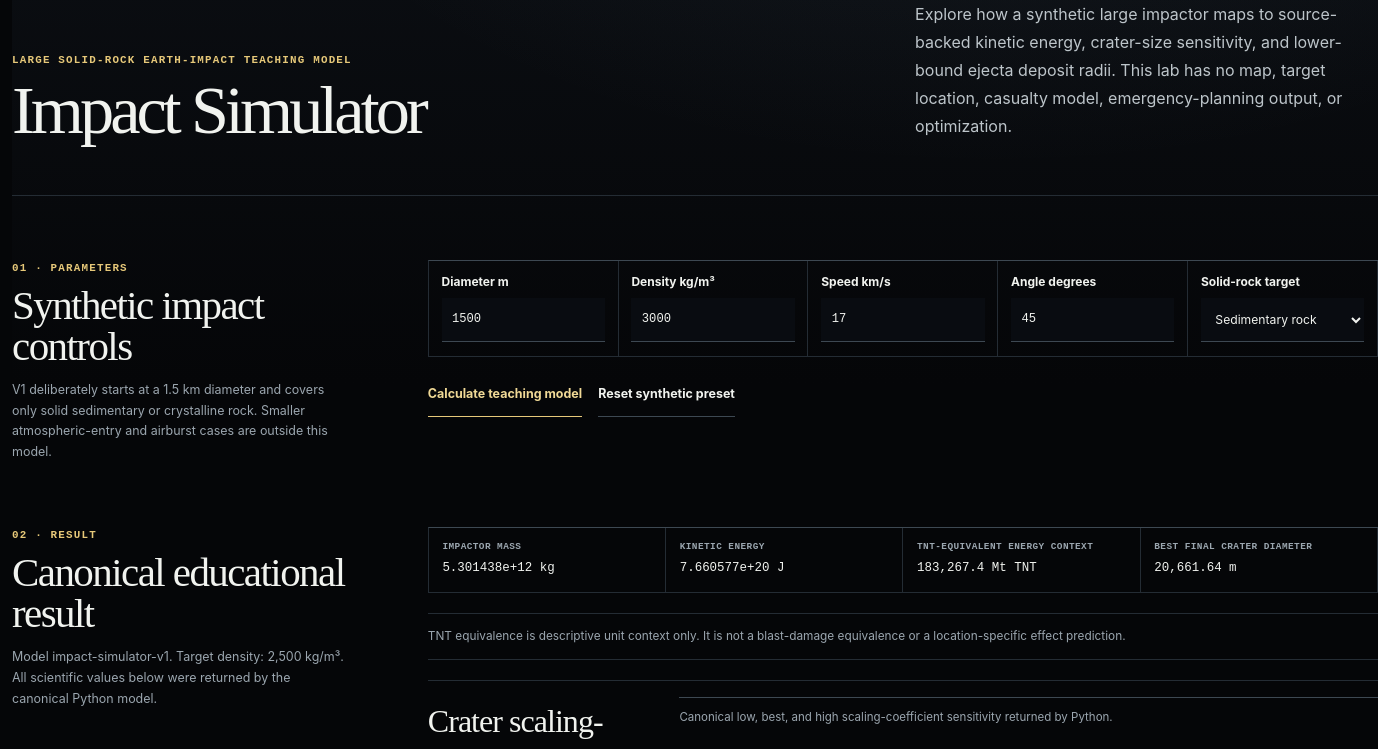
Test: ImpactSimulatorView › commits only an accepted exact Python-owned result
The image size is (1378, 749).
Replace the text in the number field named "Impactor diameter m" with "2000". click: (523,320)
box: [442,298,605,342]
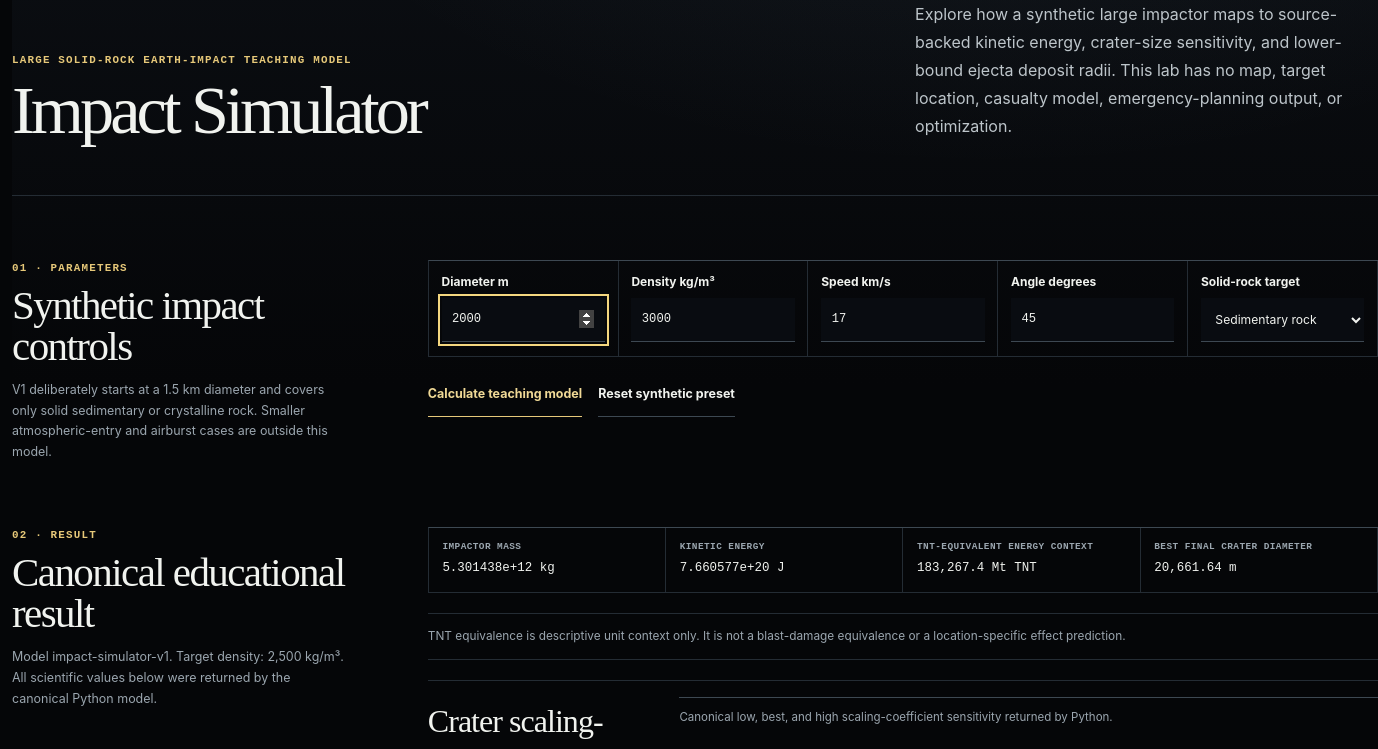
Click the button "Calculate teaching model". click: (505,395)
box: [428,373,582,417]
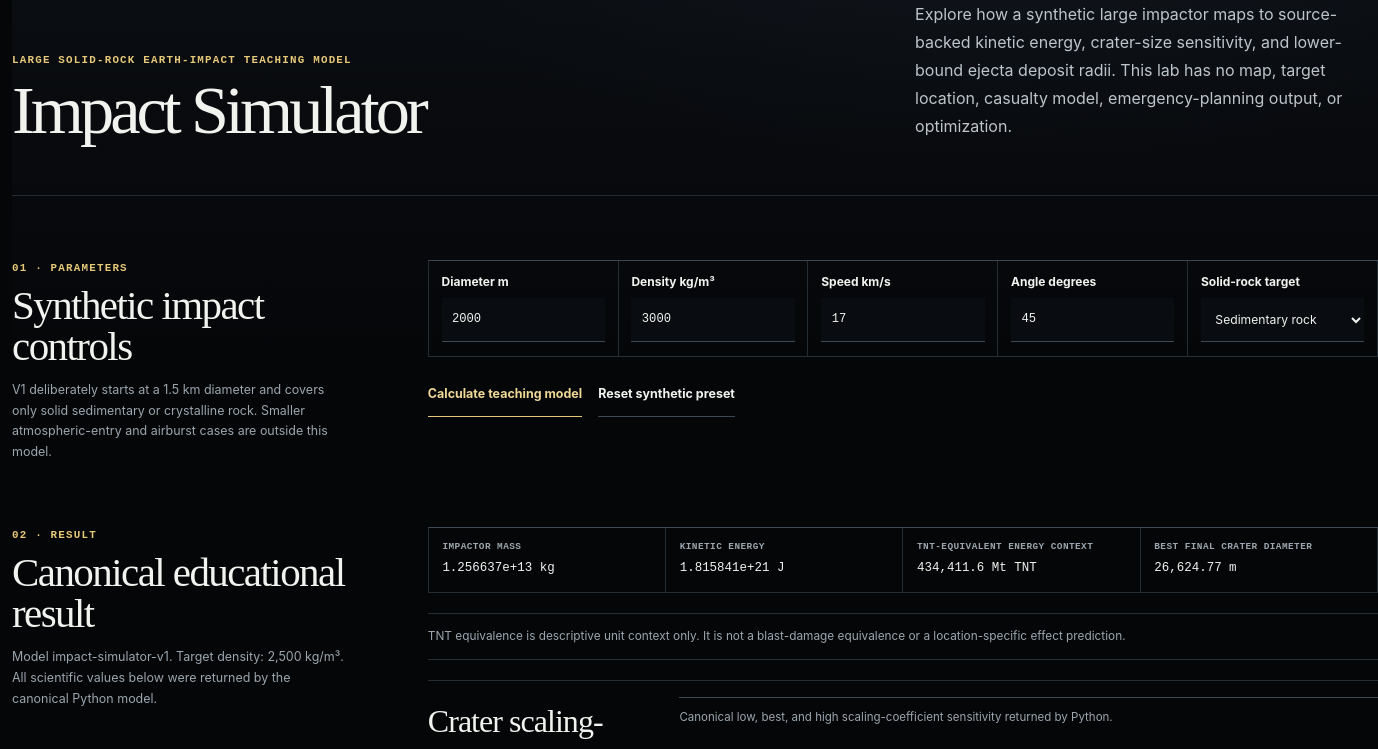
Check: the text "26,624.77 m" is shown, box [1154,561,1237,575]
